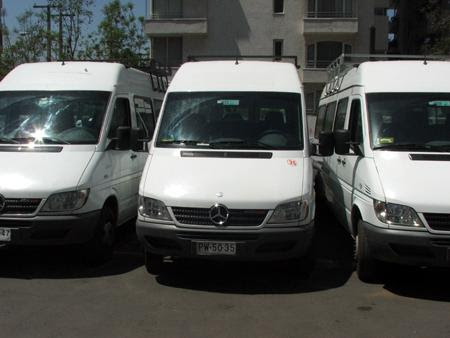car: (113, 52, 345, 285), (0, 52, 146, 273)
